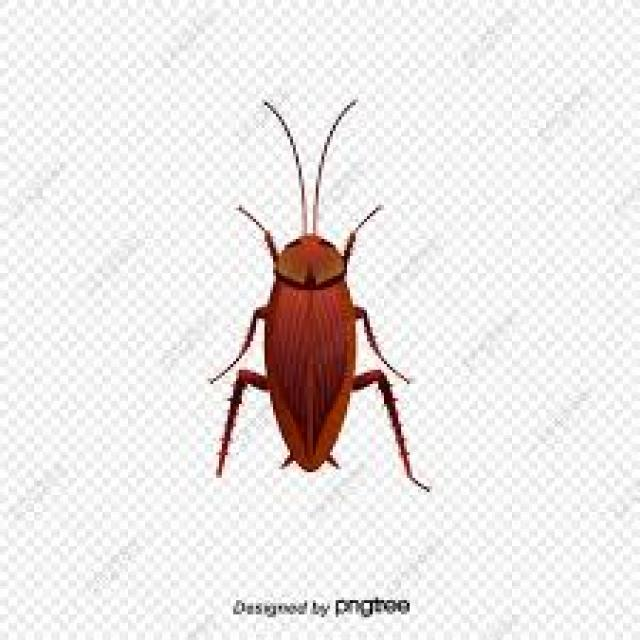Cockroach: (203, 80, 422, 529)
